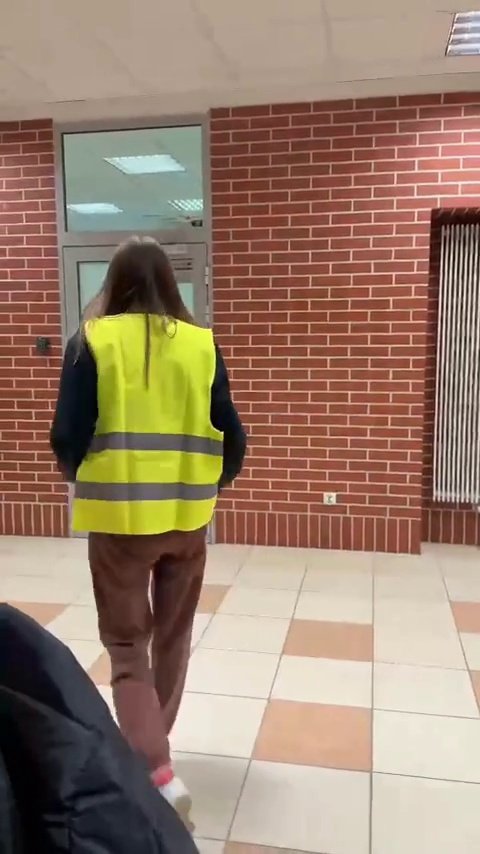vest: (47, 233, 257, 794)
